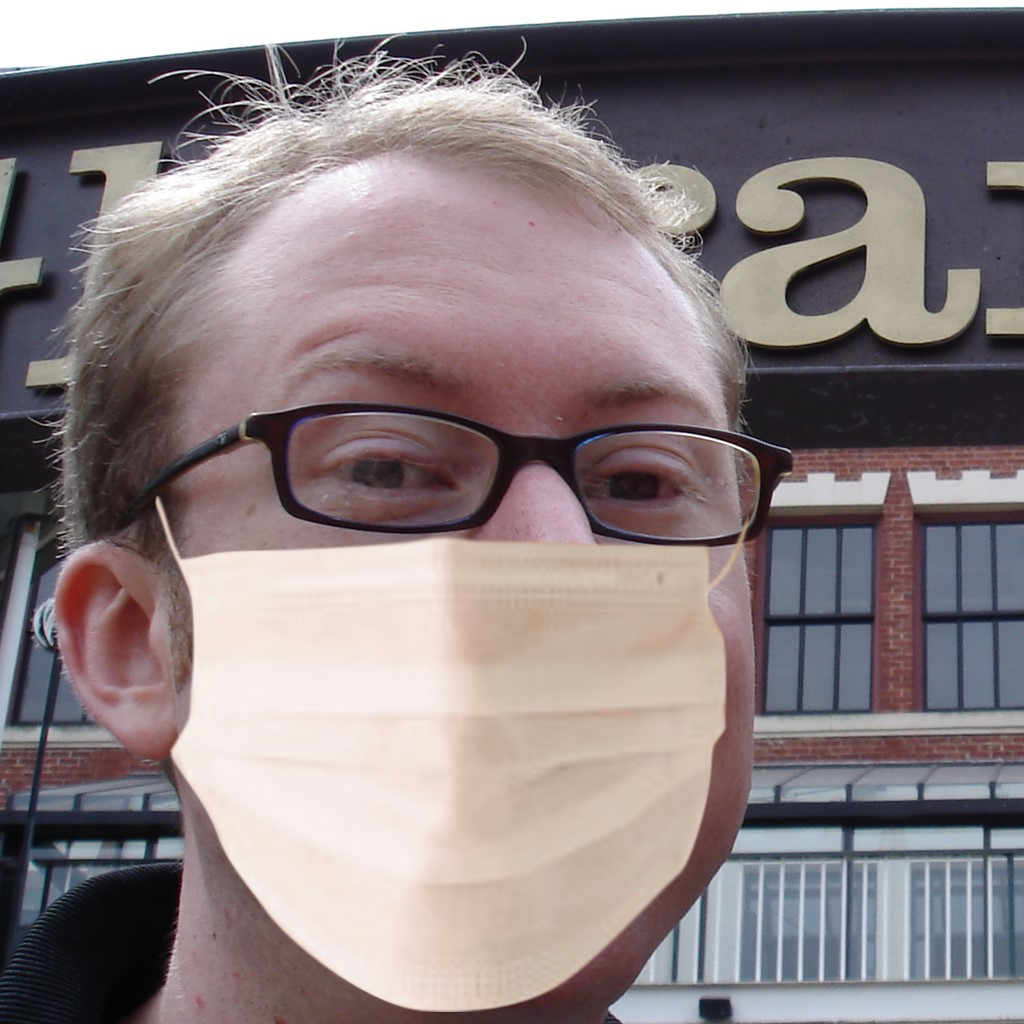con_mascara: (160, 178, 755, 999)
